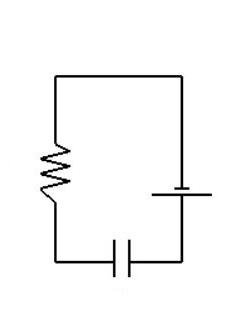resistor: (31, 128, 86, 216)
